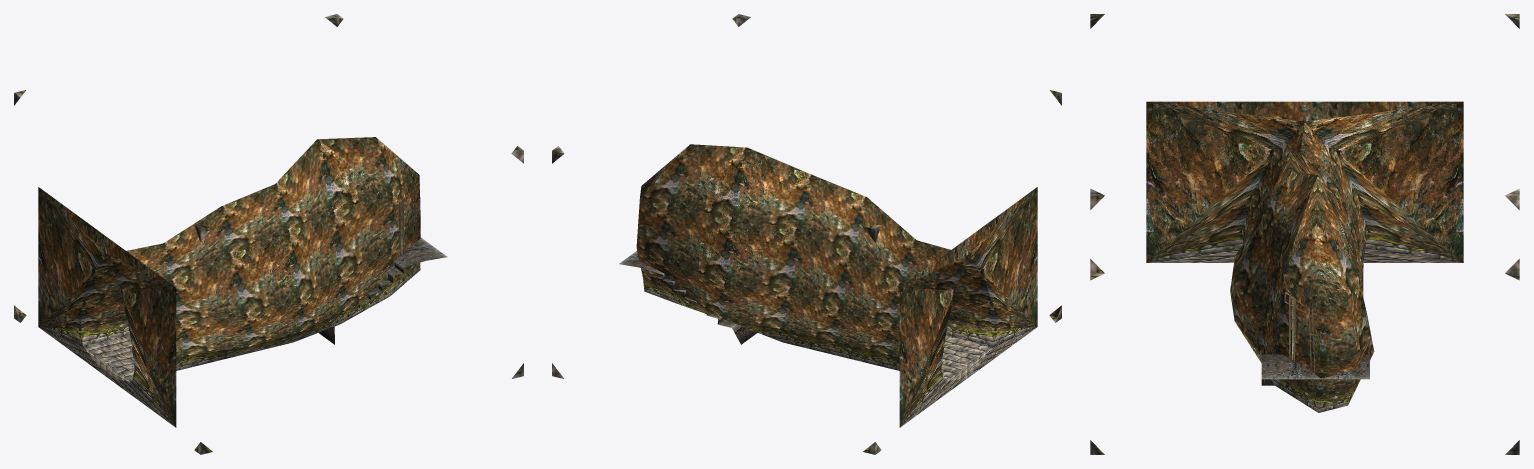
The model's file is lbc_1f.glb.
3 renders of one model, left to right at view 1: azimuth 30°, elevation 25°; view 2: azimuth 150°, elevation 25°; view 3: azimuth 270°, elevation 25°, orthographic. The views are drawn at different scales.
Visible parts, largest first — view 1: lbc_1f; view 2: lbc_1f; view 3: lbc_1f.
Boxes of the visible parts, left/top/right/bottom form: lbc_1f: left=14, top=14, right=523, bottom=454; lbc_1f: left=552, top=14, right=1061, bottom=454; lbc_1f: left=1090, top=14, right=1519, bottom=454.
Bounding box in the file's own units: 15 × 10 × 15.
Materials: 6 (6 with a texture image).
